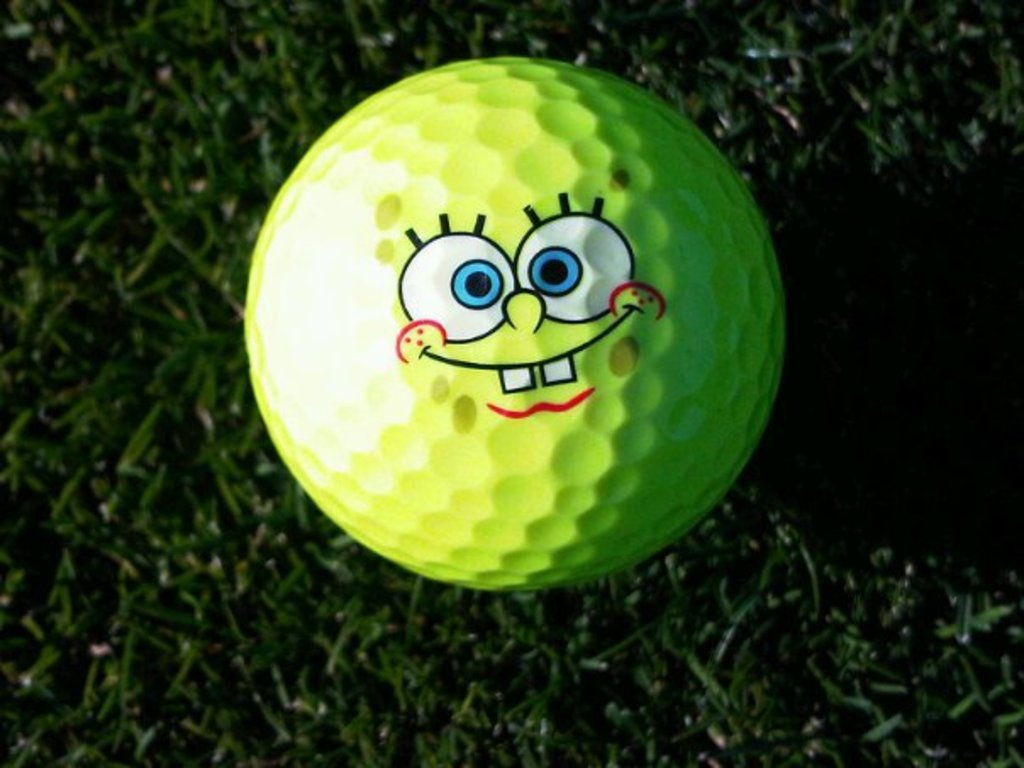Ball: (242, 56, 780, 595)
